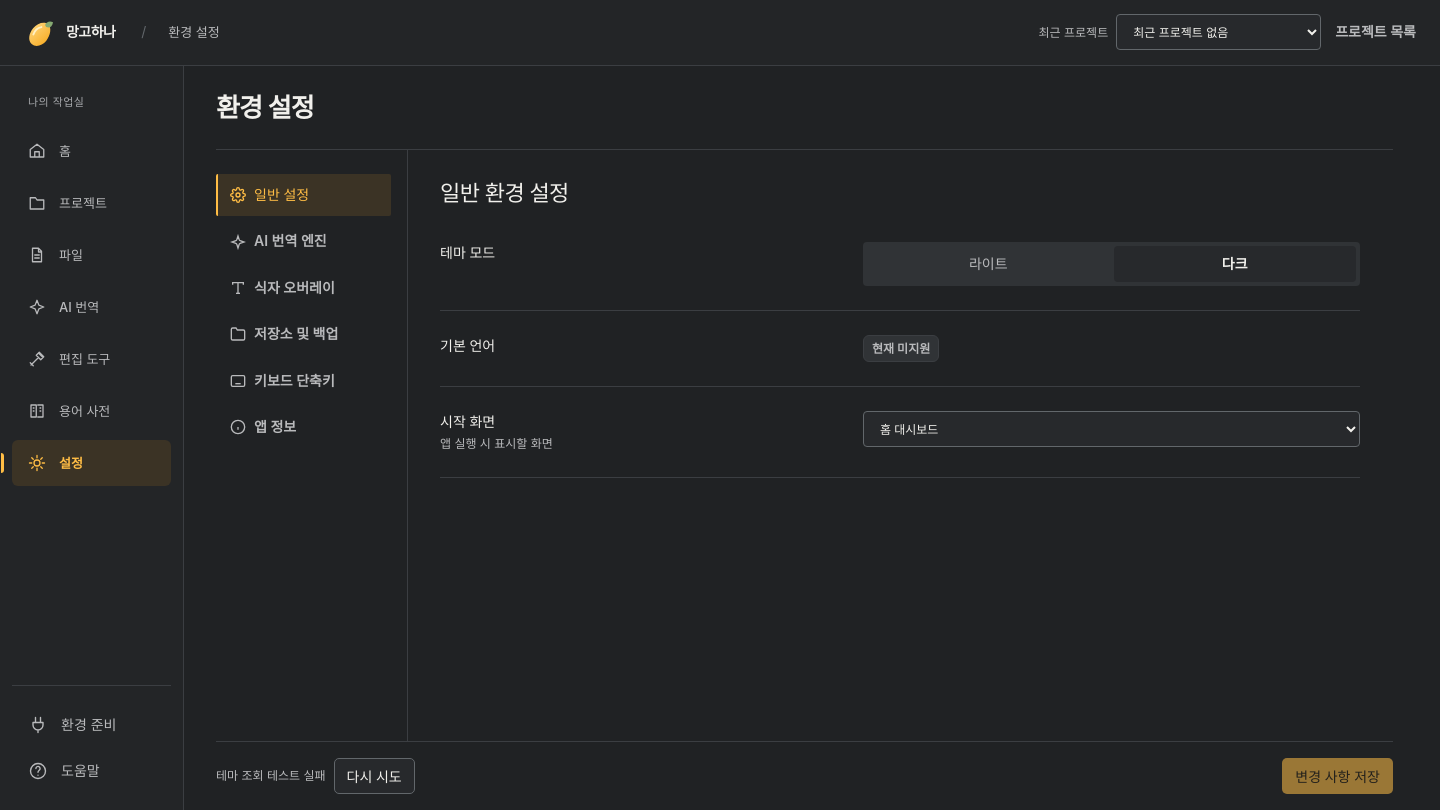
SettingsPage › keeps the current theme through a failed load and a successful retry
The width and height of the screenshot is (1440, 810).
Expected: the message "테마 조회 테스트 실패 다시 시도" is shown, [216,758,415,794]
Click the button with aria-label "설정 다시 불러오기": (374, 776) [334,758,415,794]
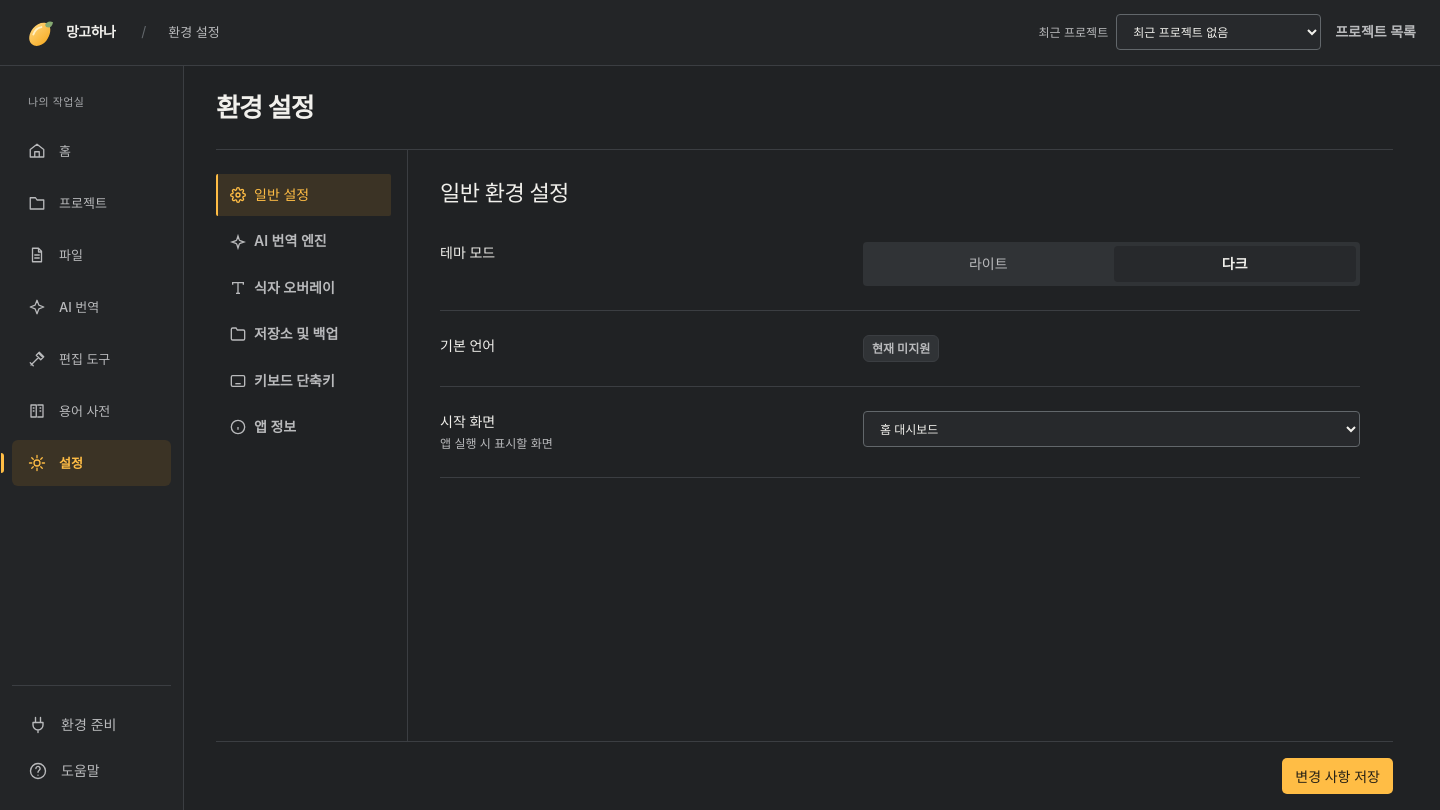
Expected: the button with aria-label "설정 저장" is enabled, [1282,758,1393,794]
